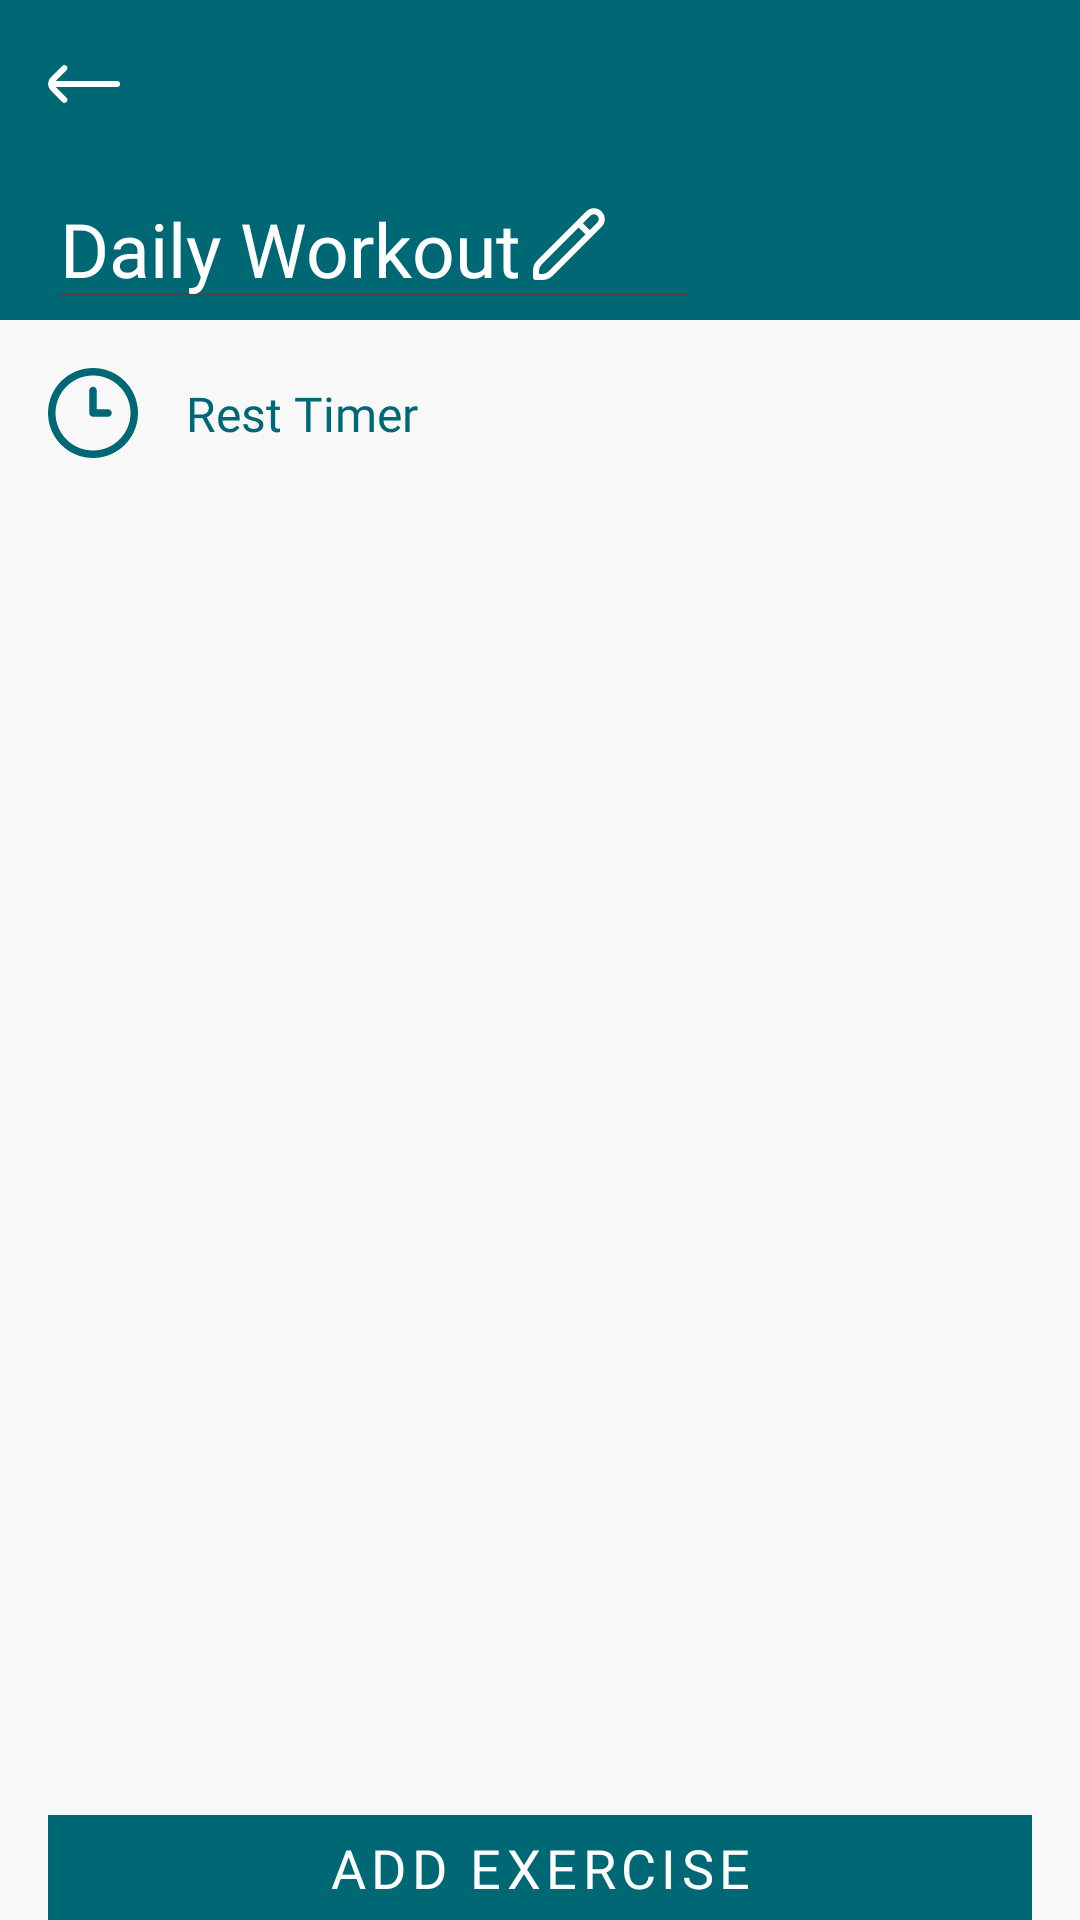

Icon click points for this 1080 x 1920 phone screenshot, format (x=x, y=y):
arrow left: (x=84, y=84)
clock three: (x=93, y=413)
pencil: (x=569, y=244)
